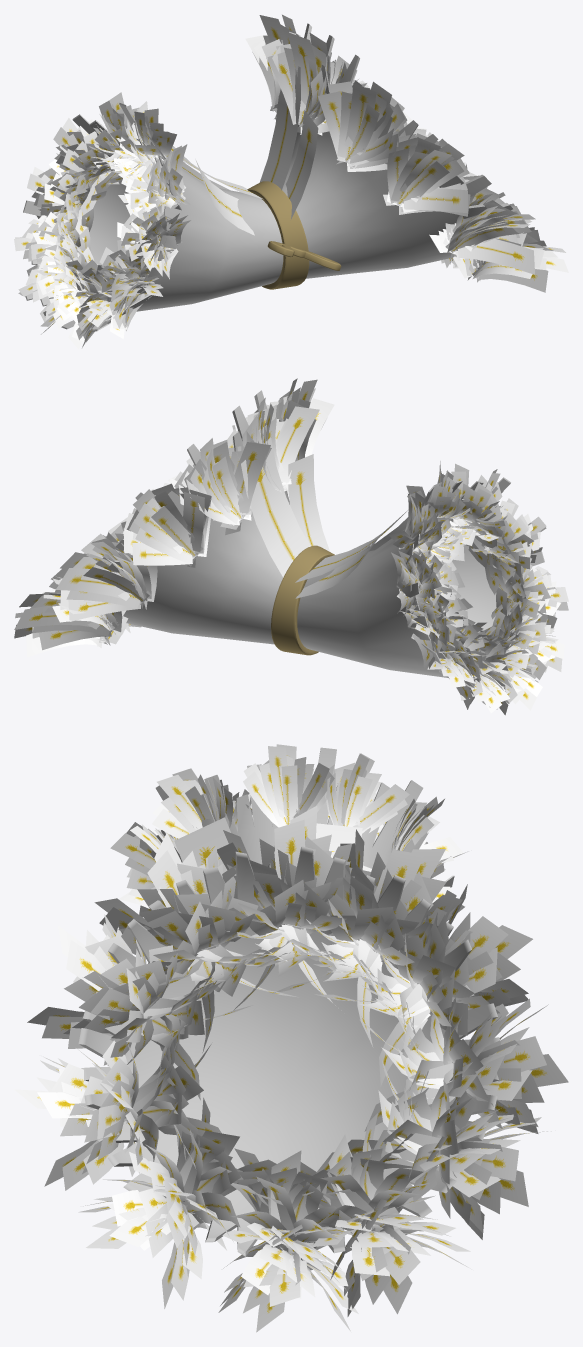
The model's file is Wheatpackage_fbx.fbx.
The picture shows the model from 3 angles, top to bottom: view 1: azimuth 30°, elevation 25°; view 2: azimuth 150°, elevation 25°; view 3: azimuth 270°, elevation 25°; orthographic projection. The views are drawn at different scales.
Visible parts, largest first — view 1: group5_HOOI1_Instancer_objects19_pPlaneShape15_HOOI1_Instanc; view 2: group5_HOOI1_Instancer_objects19_pPlaneShape15_HOOI1_Instanc; view 3: group5_HOOI1_Instancer_objects19_pPlaneShape15_HOOI1_Instanc.
Boxes of the visible parts, left/top/right/bottom form: group5_HOOI1_Instancer_objects19_pPlaneShape15_HOOI1_Instanc: left=14, top=14, right=568, bottom=349; group5_HOOI1_Instancer_objects19_pPlaneShape15_HOOI1_Instanc: left=14, top=378, right=568, bottom=715; group5_HOOI1_Instancer_objects19_pPlaneShape15_HOOI1_Instanc: left=14, top=744, right=568, bottom=1332.
Bounding box in the file's own units: 15.61 × 8.56 × 11.21.
